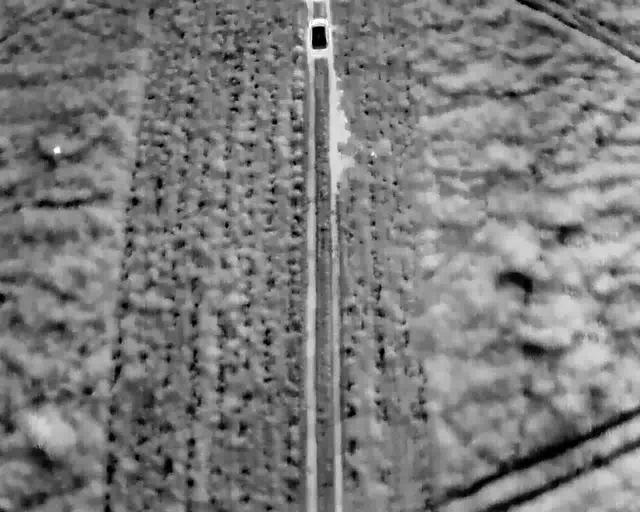car: (308, 15, 332, 53)
